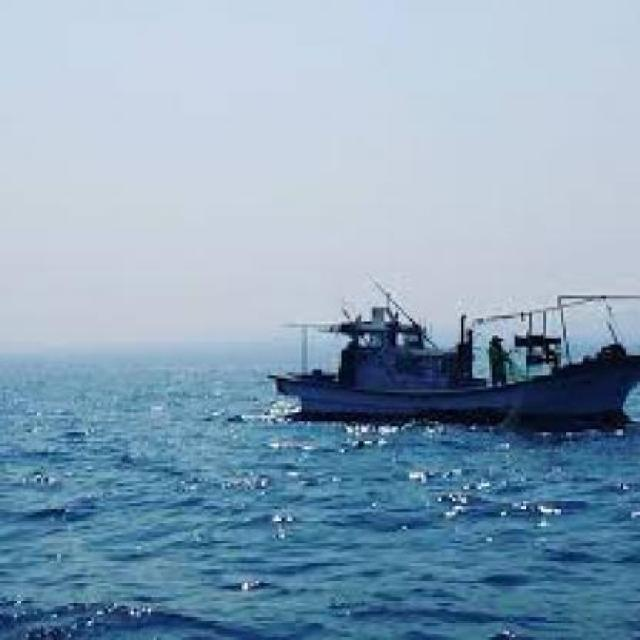fish-b: (254, 274, 639, 442)
